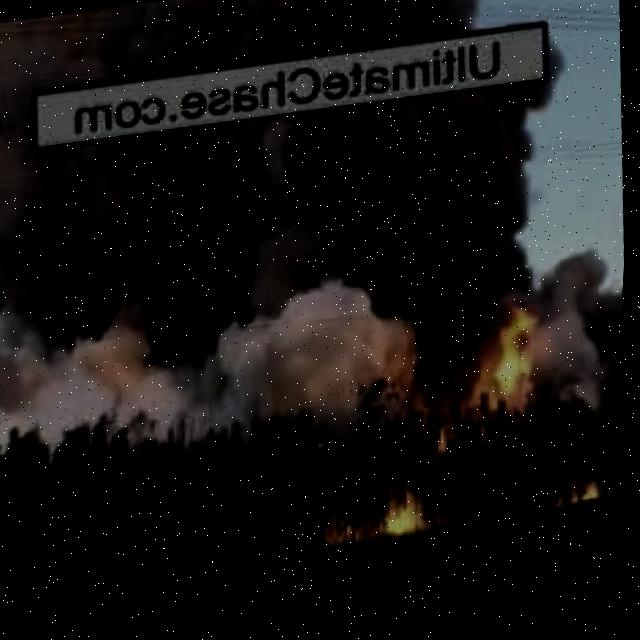Fire: (462, 290, 544, 434), (384, 480, 437, 540), (542, 478, 614, 513), (321, 506, 361, 546)
Smoke: (0, 84, 573, 367), (0, 316, 444, 474), (0, 0, 488, 90)
